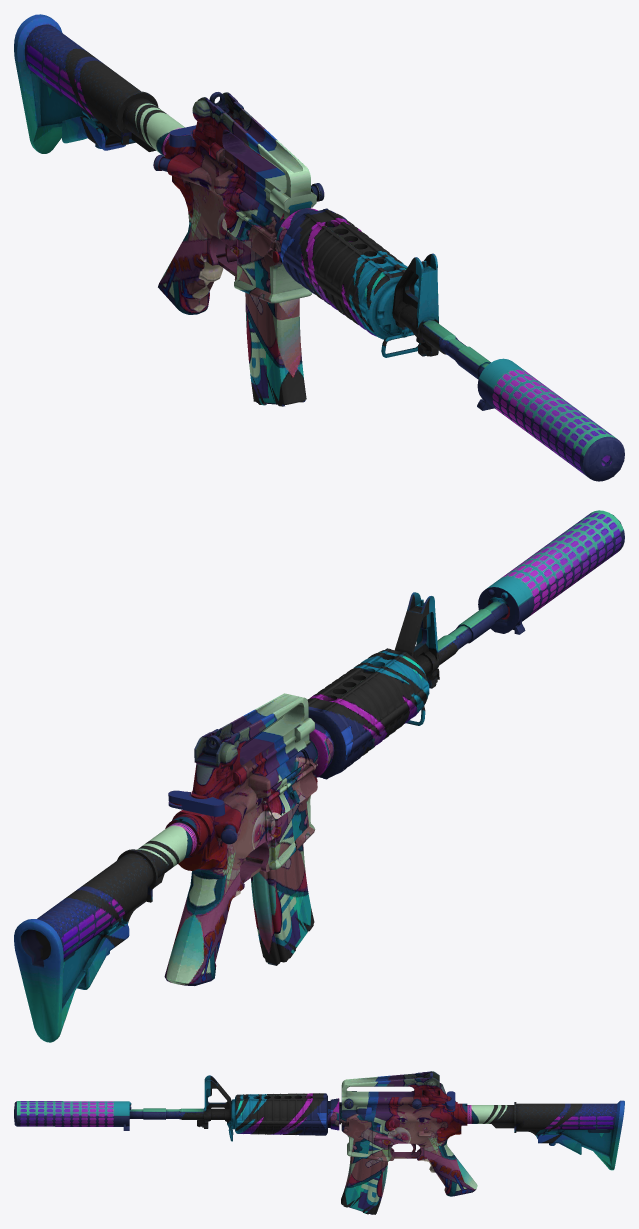
Rendered from m4_bubblegum.glb.
3 renders of one model, top to bottom at view 1: azimuth 30°, elevation 25°; view 2: azimuth 150°, elevation 25°; view 3: azimuth 270°, elevation 25°, orthographic. The views are drawn at different scales.
Visible parts, largest first — view 1: Object_2; view 2: Object_2; view 3: Object_2.
Boxes of the visible parts, box(x1,y1,x2,y2) form: Object_2: box(14, 14, 624, 481); Object_2: box(14, 510, 624, 1042); Object_2: box(14, 1071, 624, 1214).
Size of the model in its own units: 3.62 by 12.28 by 47.75.
Materials: 1 (1 with a texture image).
